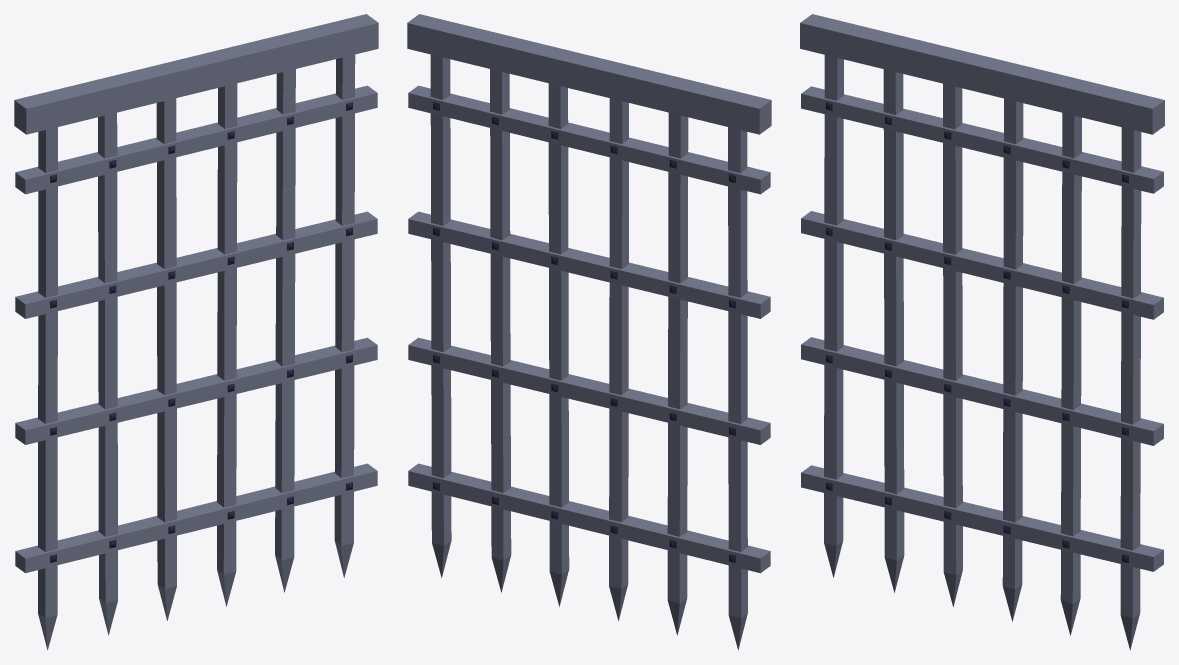
File: gate.fbx
3 views of the same model, side by side, from view 1: azimuth 30°, elevation 25°; view 2: azimuth 150°, elevation 25°; view 3: azimuth 330°, elevation 25° (orthographic).
Parts seen in each view (by area): view 1: gate; view 2: gate; view 3: gate.
Boxes of the visible parts, <box> form: gate: <box>14,14,378,650</box>; gate: <box>407,14,771,650</box>; gate: <box>800,14,1164,650</box>.
Size of the model in its own units: 2 by 3 by 0.12.
